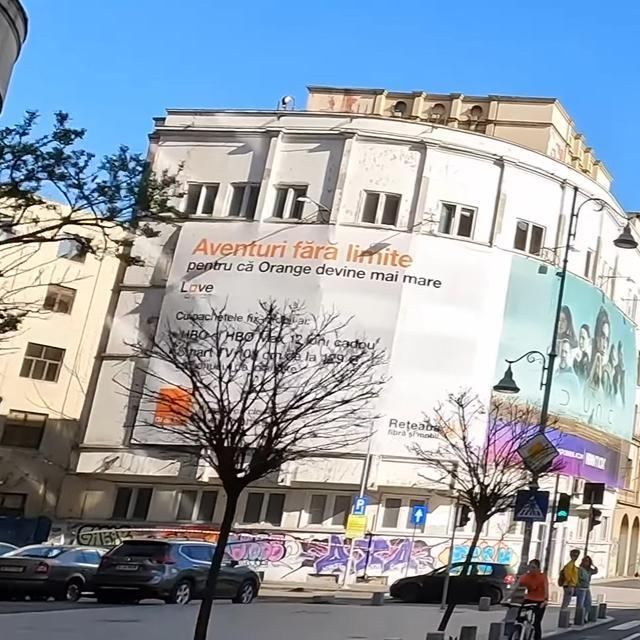info_crosswalk: (514, 490, 550, 521)
